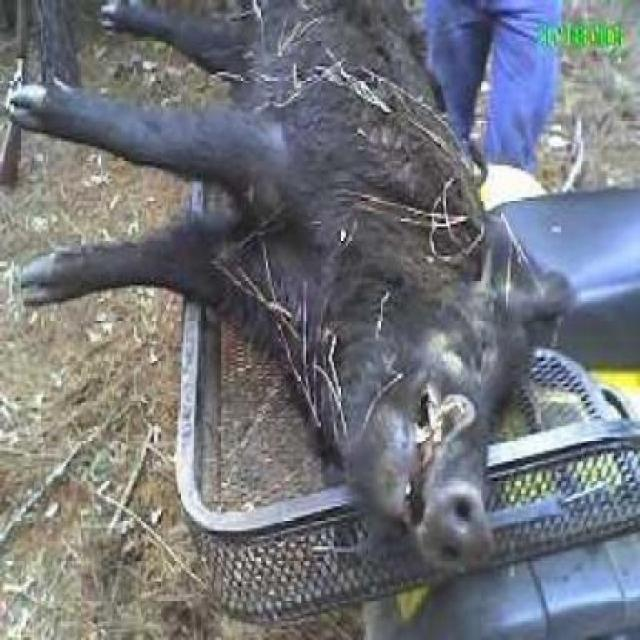pig: (23, 8, 610, 568)
